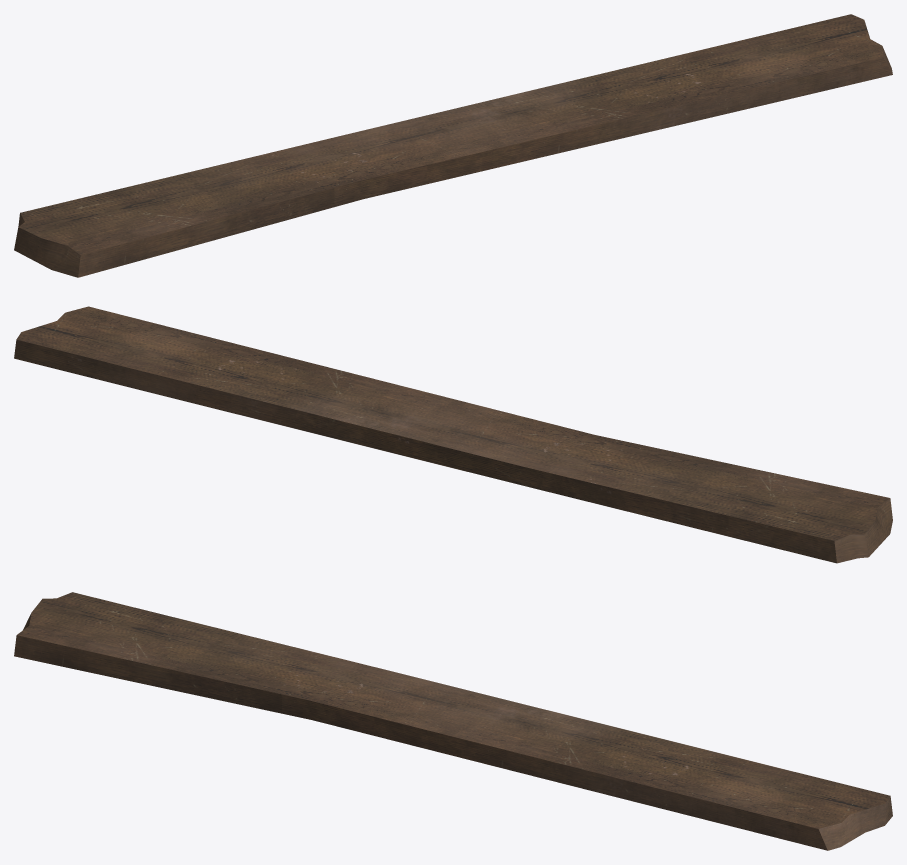
Rendered from SM_Plank_02.fbx.
The picture shows the model from 3 angles, top to bottom: view 1: azimuth 30°, elevation 25°; view 2: azimuth 150°, elevation 25°; view 3: azimuth 330°, elevation 25°; orthographic projection.
Parts seen in each view (by area): view 1: SM_Plank_02_LOD0; view 2: SM_Plank_02_LOD0; view 3: SM_Plank_02_LOD0.
Boxes of the visible parts, left/top/right/bottom form: SM_Plank_02_LOD0: left=14, top=14, right=892, bottom=277; SM_Plank_02_LOD0: left=14, top=306, right=892, bottom=563; SM_Plank_02_LOD0: left=14, top=592, right=892, bottom=850.
Size of what is drawn, in the model's own units: 428 by 10.52 by 50.91.
